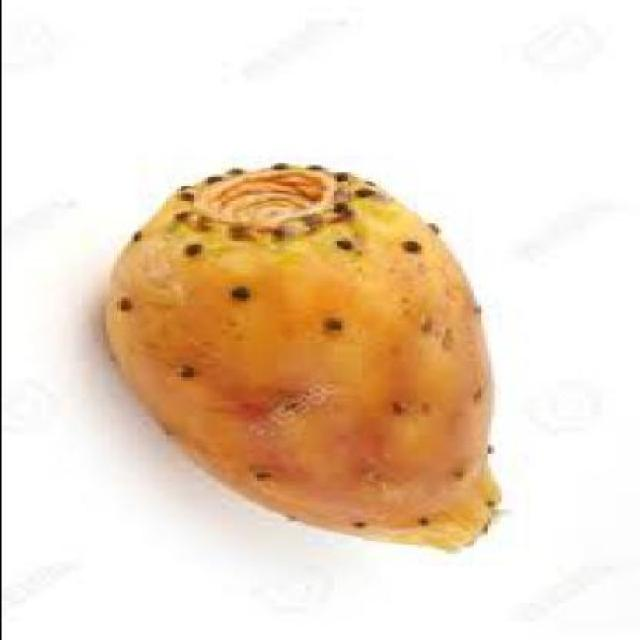BIODEGRADABLE: (101, 167, 504, 551)
